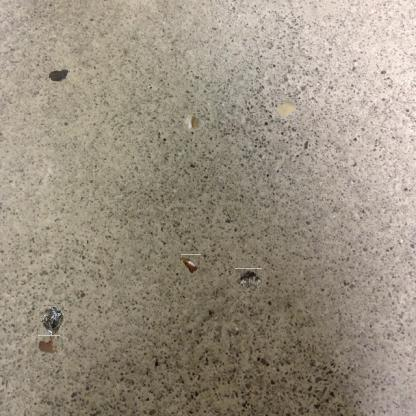dirty: (38, 304, 64, 336), (236, 267, 261, 293), (276, 96, 298, 118), (181, 254, 202, 275), (182, 112, 206, 130)
liquid: (38, 335, 60, 354), (50, 69, 70, 81)
